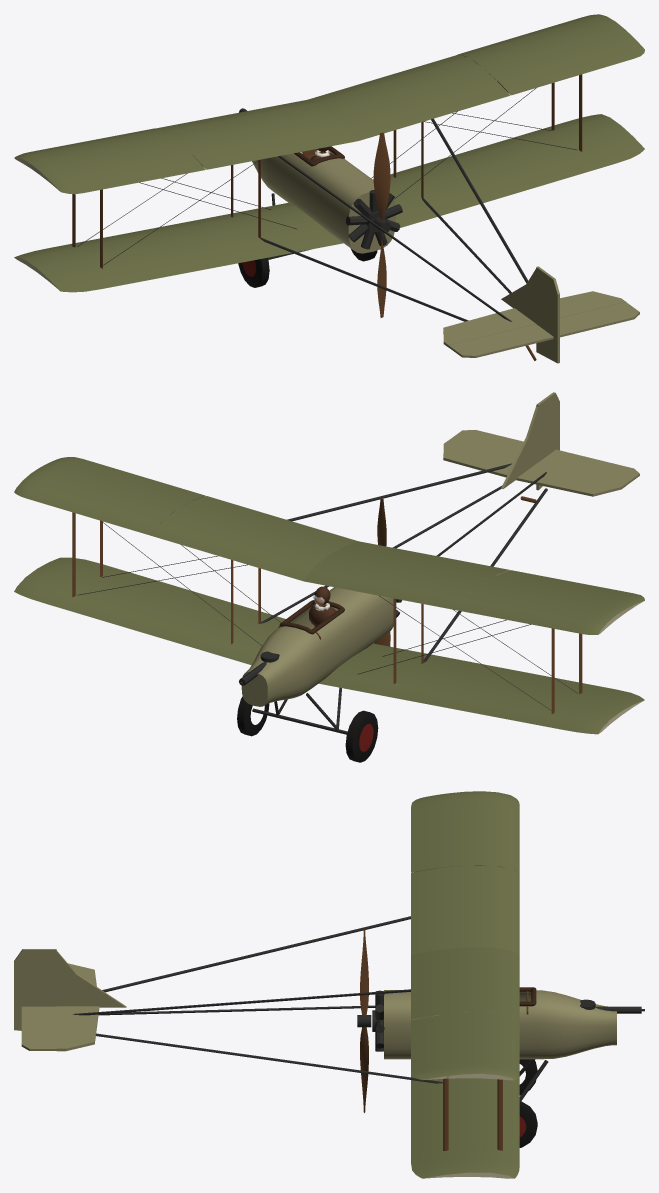
The model's file is airco_dh2.glb.
3 views of the same model, one above another, from view 1: azimuth 30°, elevation 25°; view 2: azimuth 150°, elevation 25°; view 3: azimuth 270°, elevation 25° (orthographic).
Parts seen in each view (by area): view 1: Wing_Lower_L, Wing_Upper_R, Wing_Lower_R, Wing_Upper_L, Fuselage, Struts, Elevator, Aileron_R, Aileron_L, Rudder, PropBlades, Stabilizer_L (+5 smaller); view 2: Wing_Upper_R, Wing_Upper_L, Wing_Lower_L, Wing_Lower_R, Fuselage, Struts, Elevator, Wheels, Stabilizer_L, Stabilizer_R, Aileron_R, Wires (+7 smaller); view 3: Wing_Upper_L, Wing_Upper_R, Wing_Lower_R, Fuselage, Struts, Rudder, Aileron_L, Aileron_R, Fin, Stabilizer_R, Elevator, PropBlades (+2 smaller).
Boxes of the visible parts, x1,y1,x2,y2 form: Wing_Lower_L: (14,203,343,292); Wing_Upper_R: (308,14,632,140); Wing_Lower_R: (373,114,644,227); Wing_Upper_L: (14,99,357,181); Fuselage: (252,149,395,253); Struts: (72,74,582,321); Elevator: (448,302,639,357); Aileron_R: (497,37,644,95); Aileron_L: (48,154,205,194); Rudder: (536,266,559,363); PropBlades: (373,132,390,317); Stabilizer_L: (443,308,535,347); Wing_Upper_R: (14,462,357,581); Wing_Upper_L: (304,541,632,634); Wing_Lower_L: (319,643,644,734); Wing_Lower_R: (14,557,285,665); Fuselage: (241,587,393,706); Struts: (72,463,582,713); Elevator: (449,430,639,485); Wheels: (237,696,378,762); Stabilizer_L: (516,462,626,496); Stabilizer_R: (443,440,515,477); Aileron_R: (49,457,205,501); Wires: (77,521,577,710); Wing_Upper_L: (411,791,519,954); Wing_Upper_R: (411,947,519,1080); Wing_Lower_R: (411,1073,519,1178); Fuselage: (384,990,616,1059); Struts: (73,916,502,1150); Rudder: (14,949,56,1030); Aileron_L: (411,793,445,872); Aileron_R: (411,1015,446,1080); Fin: (56,950,126,1007); Stabilizer_R: (56,1006,99,1051); Elevator: (21,1006,56,1050); PropBlades: (357,929,371,1112).
Bounding box in the file's own units: 8.61 × 2.73 × 8.12.
